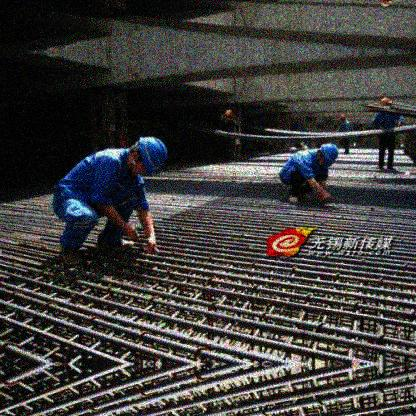helmet: (126, 133, 168, 183), (315, 143, 339, 172), (380, 95, 393, 115), (223, 108, 233, 122), (339, 112, 349, 124)
